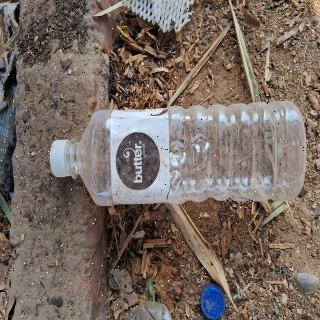Plastic-bottle: (45, 95, 315, 220)
